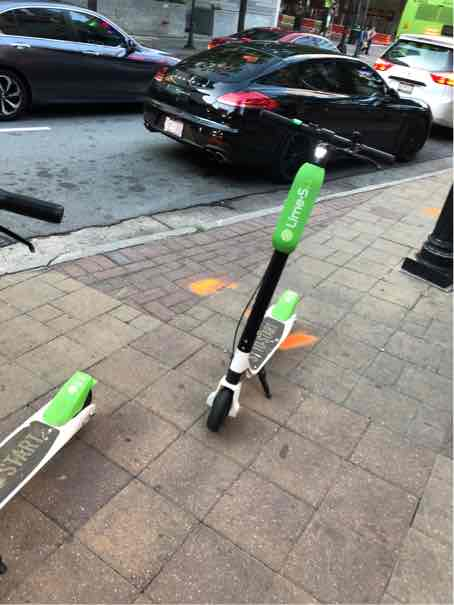scooter: (195, 100, 408, 462)
